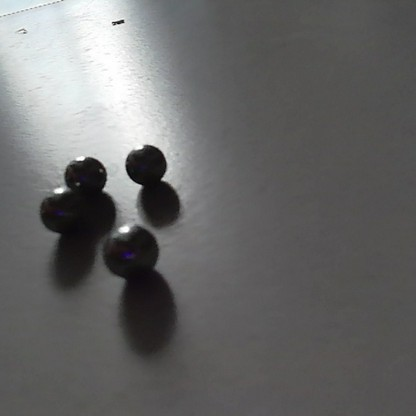ironball: (101, 223, 160, 284), (60, 150, 109, 198), (37, 186, 84, 235), (121, 143, 169, 184)
